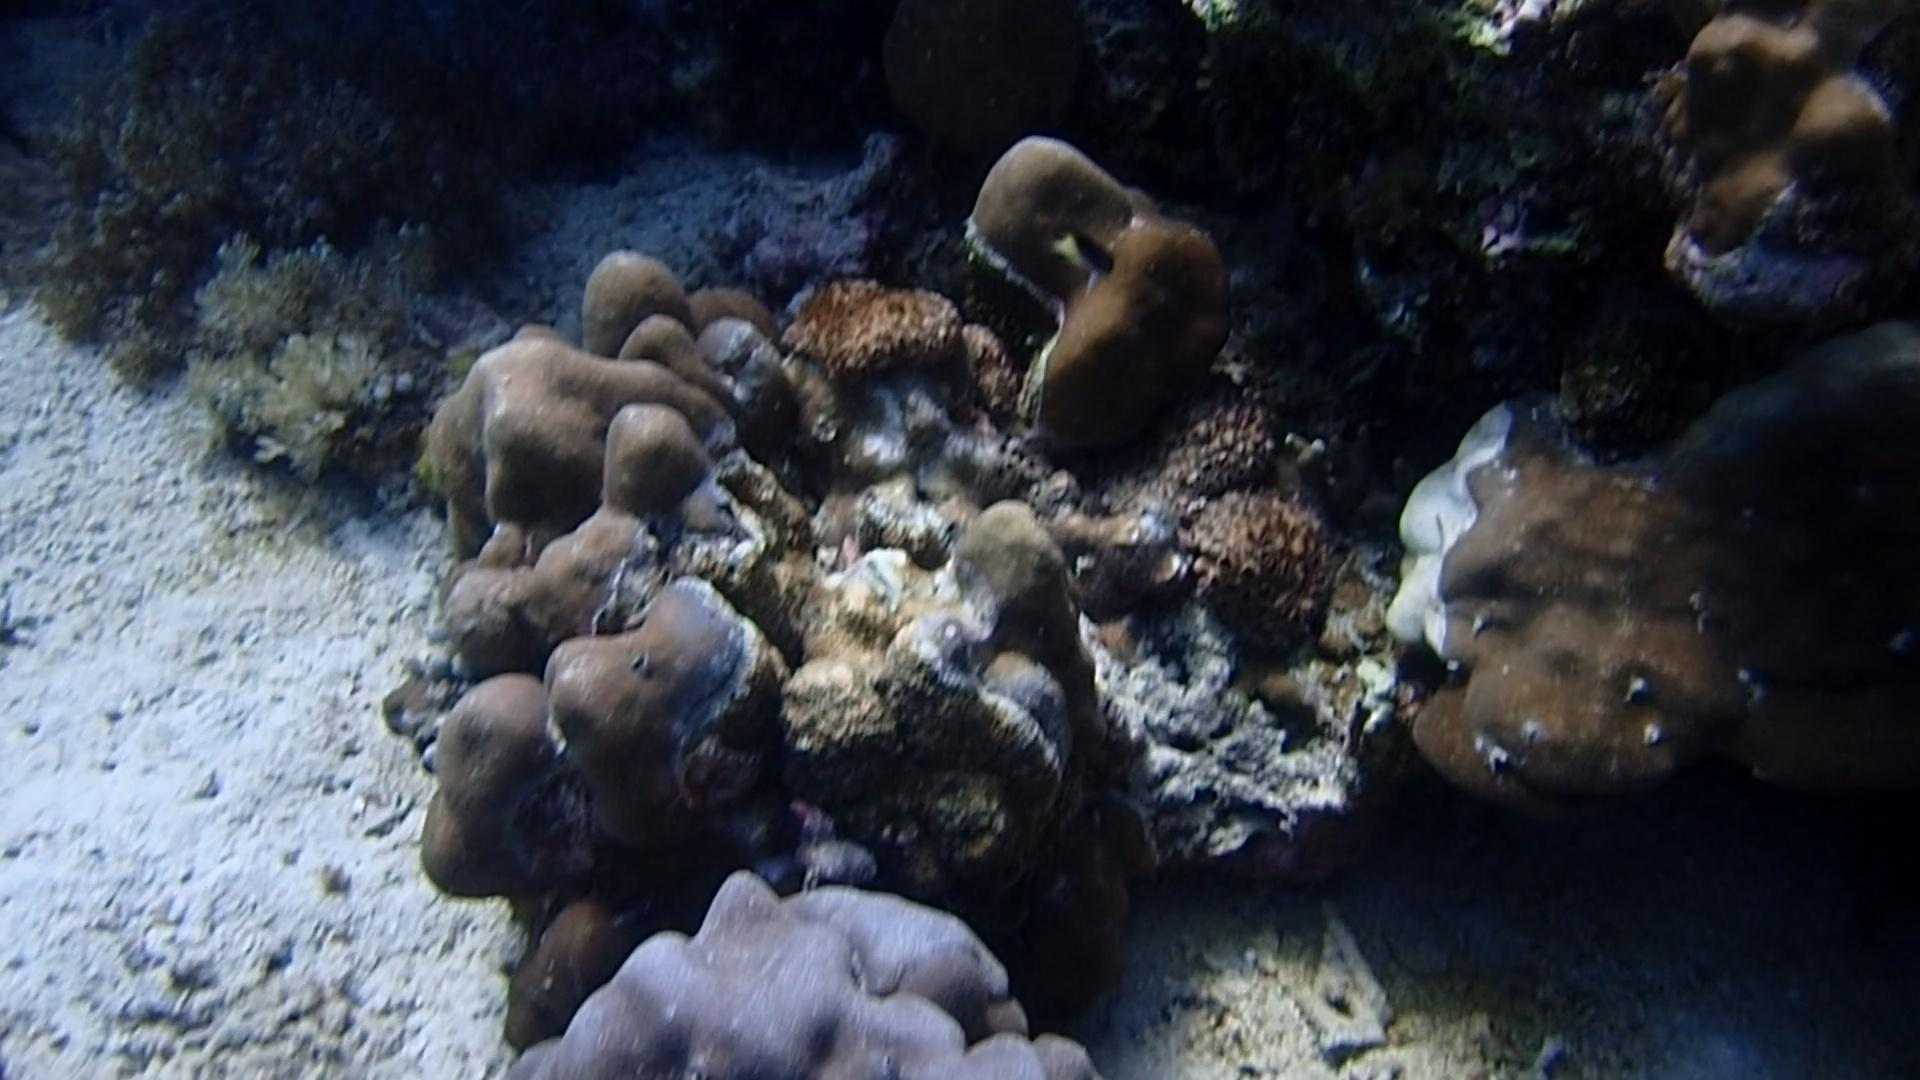Yellow Tail: (1046, 214, 1126, 305)
